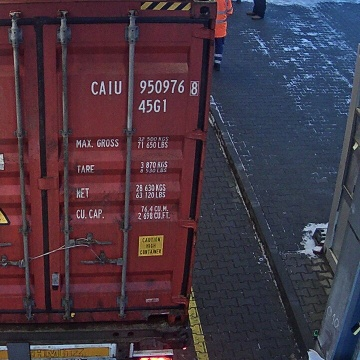serial_id: (91, 80, 198, 95)
